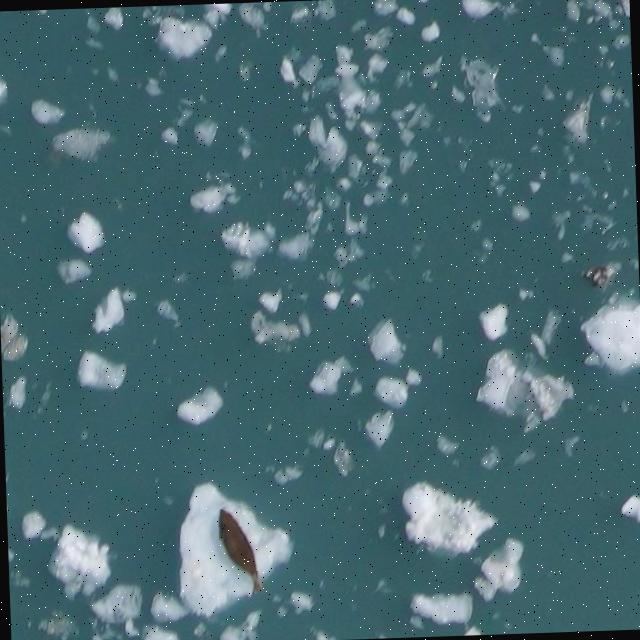seal: (205, 503, 275, 599)
